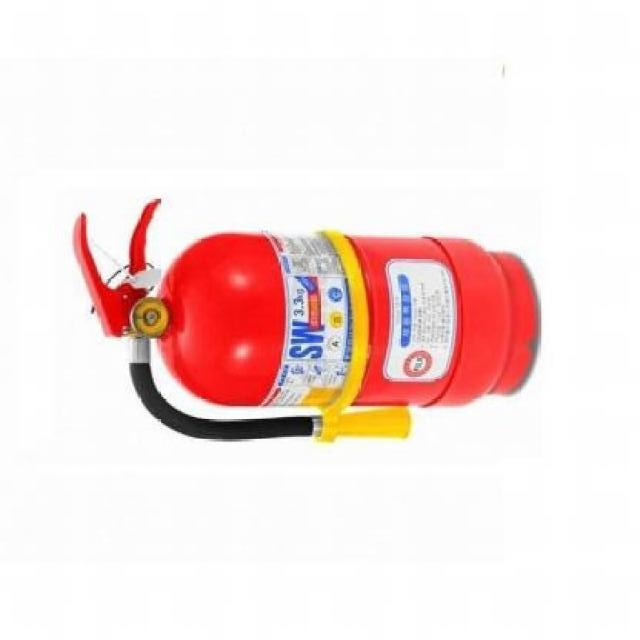fire extinguisher: (73, 198, 538, 442)
